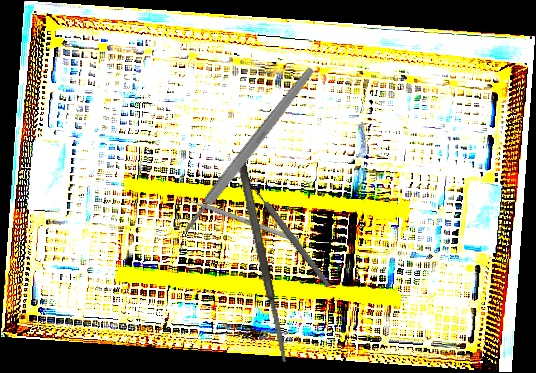Pusher: (171, 192, 300, 243)
Scalpel Handle: (180, 65, 317, 235)
Spatula Surgical: (235, 155, 290, 364)
Surgical Spoon: (236, 165, 332, 289)
